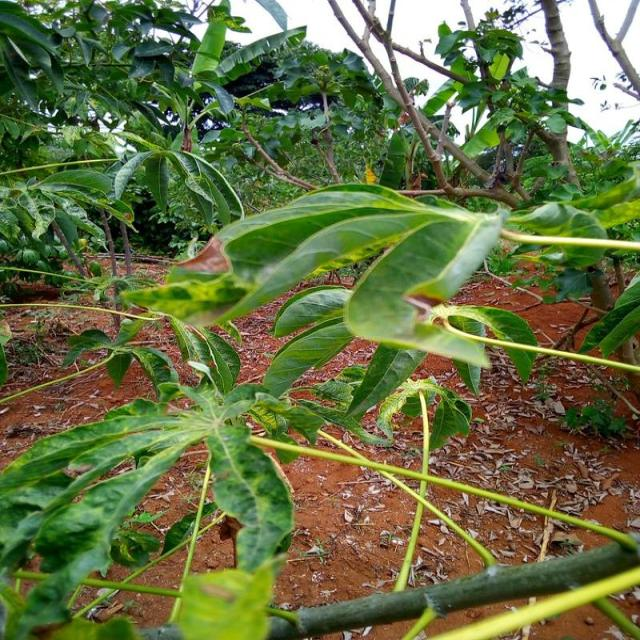cassava leaf: (119, 180, 506, 334)
